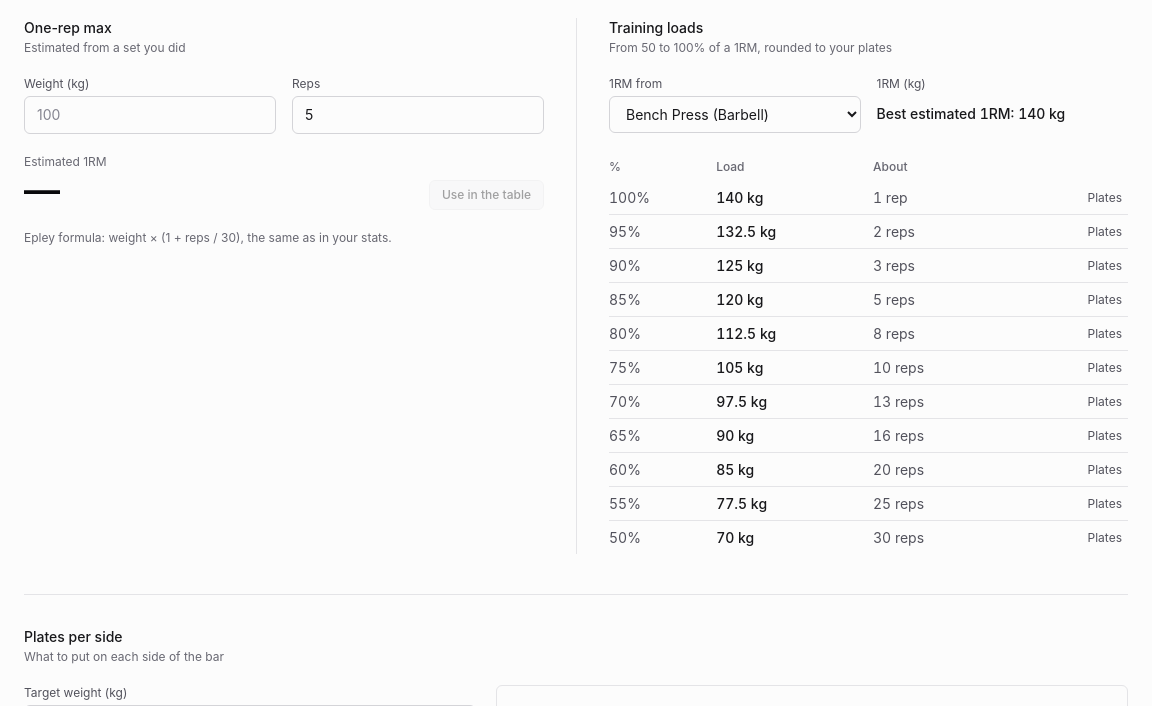
Test: CalculatorsView › loads a row of the table into the plate calculator
Click the button "Plates" in the row of "1 rep".
click(1105, 198)  # box [1082, 188, 1128, 208]
(page scrolled)
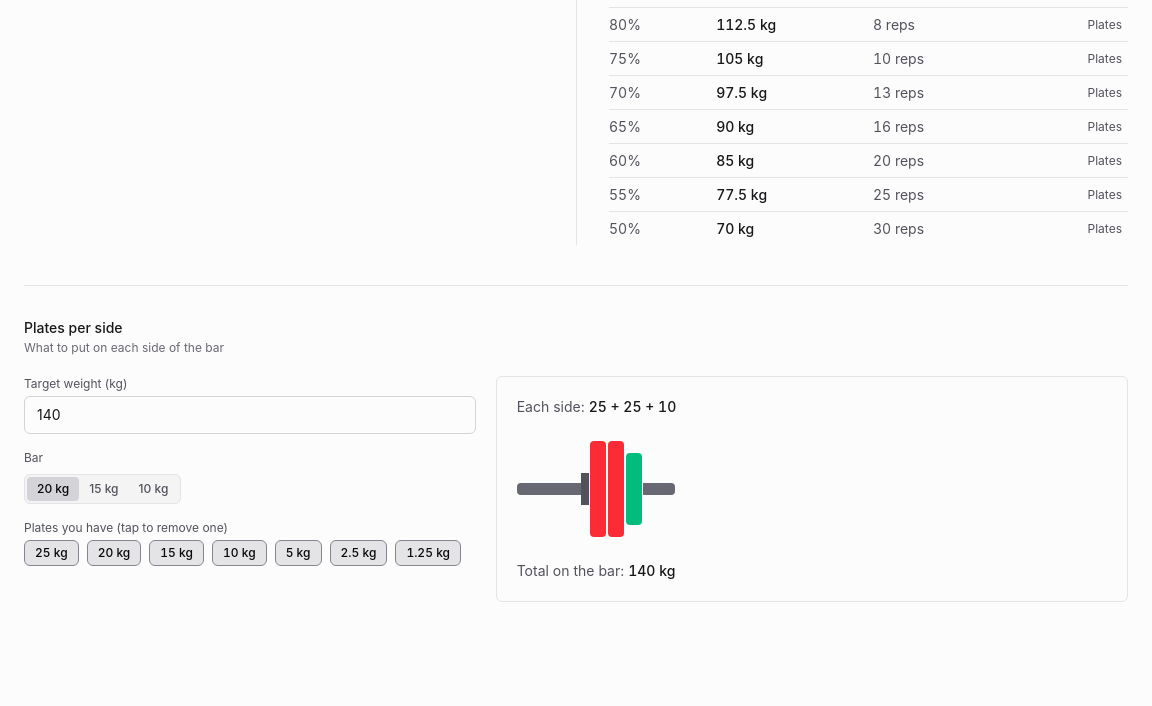
Check: the field with id "calc-target" holds "140", box [24, 396, 476, 434]
Check: the text "Each side: 25 + 25 + 10" is shown, box [517, 398, 676, 415]
